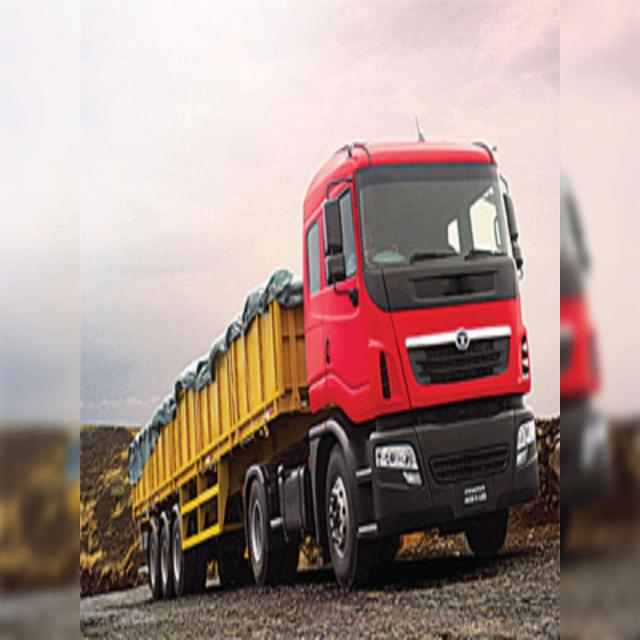truck: (130, 140, 539, 600)
